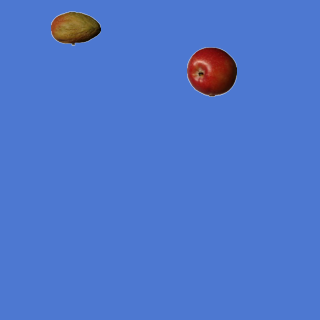Apple Braeburn: (186, 46, 236, 96)
Papaya: (50, 3, 100, 53)
